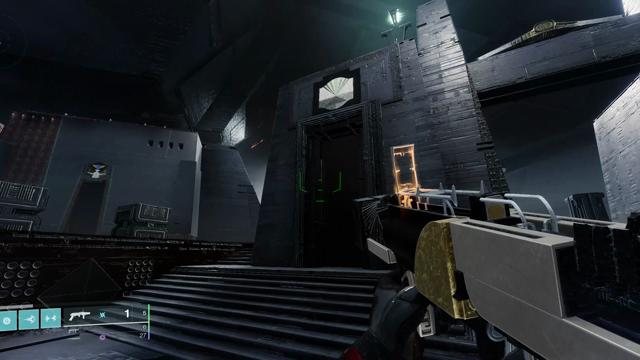commune: (319, 77, 354, 110)
drink: (85, 162, 109, 179)
